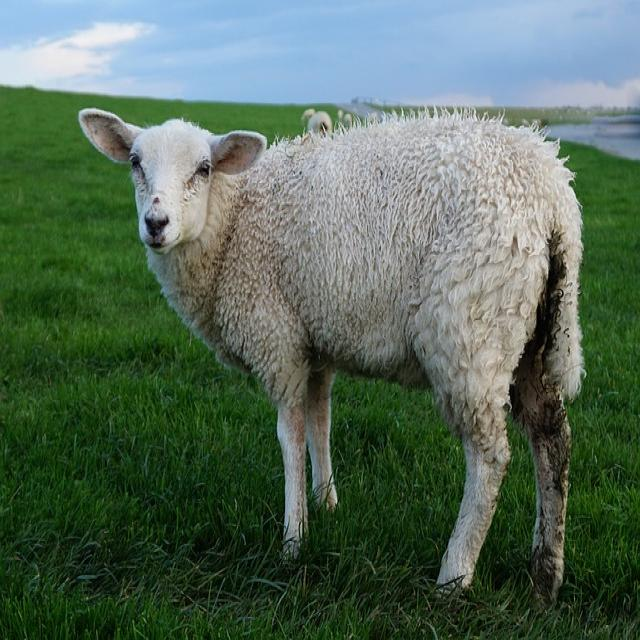goat: (79, 108, 582, 597)
